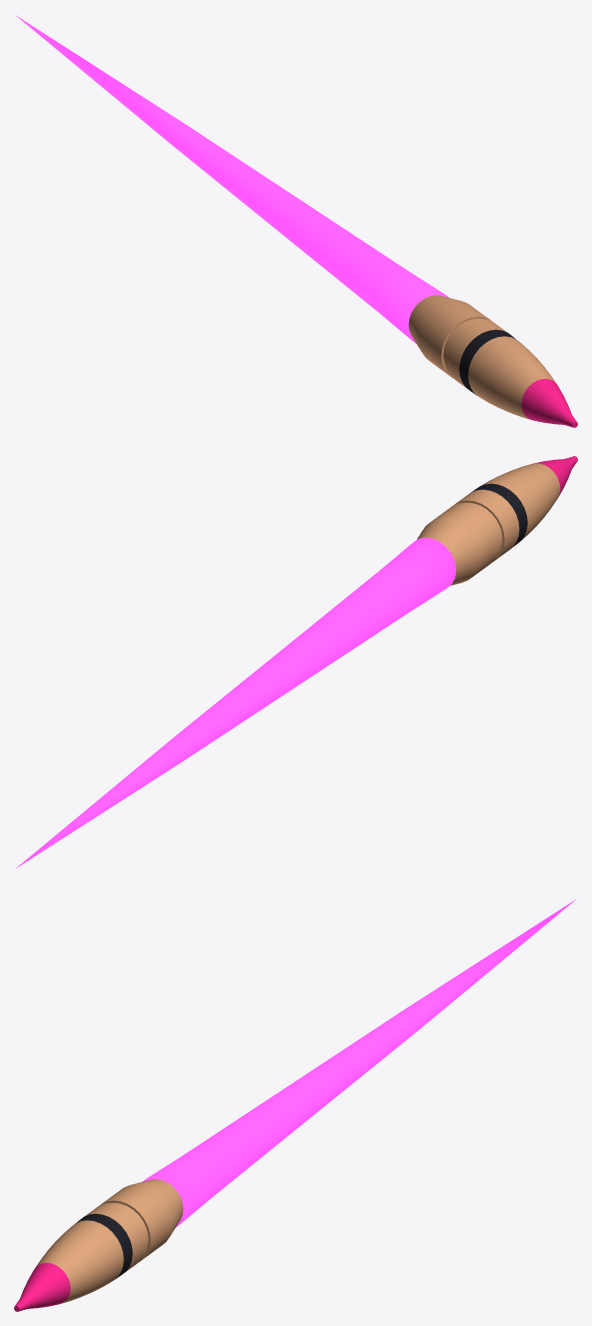
Rendered from GravitySniper_Bolt.fbx.
The picture shows the model from 3 angles, top to bottom: view 1: azimuth 30°, elevation 25°; view 2: azimuth 150°, elevation 25°; view 3: azimuth 330°, elevation 25°; orthographic projection.
Visible parts, largest first — view 1: Bolt_Estela_Halo_Estandar, Bolt_Bala_Estandar; view 2: Bolt_Estela_Halo_Estandar, Bolt_Bala_Estandar; view 3: Bolt_Estela_Halo_Estandar, Bolt_Bala_Estandar.
Part boxes in pixels (<box>): Bolt_Estela_Halo_Estandar: <box>15,15,449,343</box>; Bolt_Bala_Estandar: <box>408,295,577,427</box>; Bolt_Estela_Halo_Estandar: <box>15,537,456,868</box>; Bolt_Bala_Estandar: <box>417,456,577,585</box>; Bolt_Estela_Halo_Estandar: <box>142,899,576,1227</box>; Bolt_Bala_Estandar: <box>14,1179,183,1311</box>.
Size of the model in its own units: 2.9 by 2.9 by 46.79.
